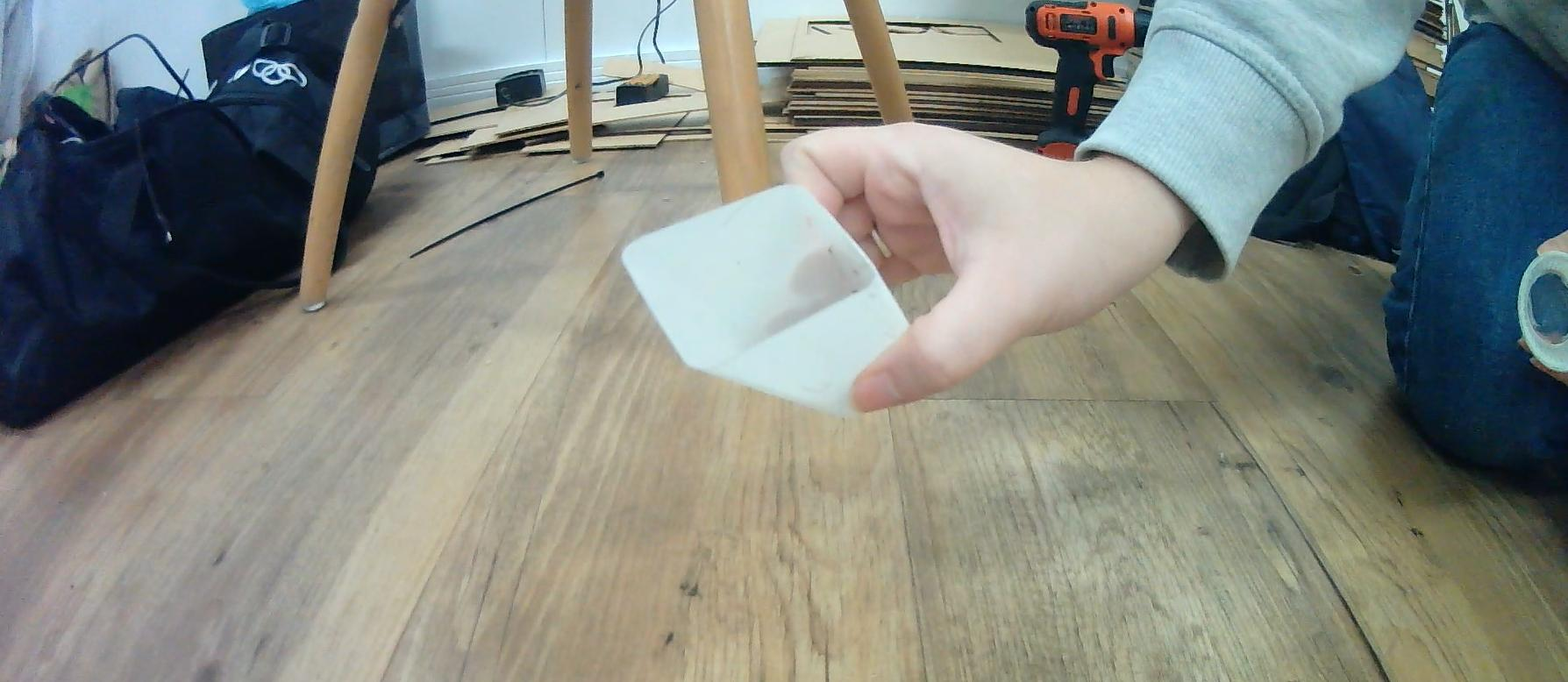erva_daninha: (619, 182, 914, 422)
